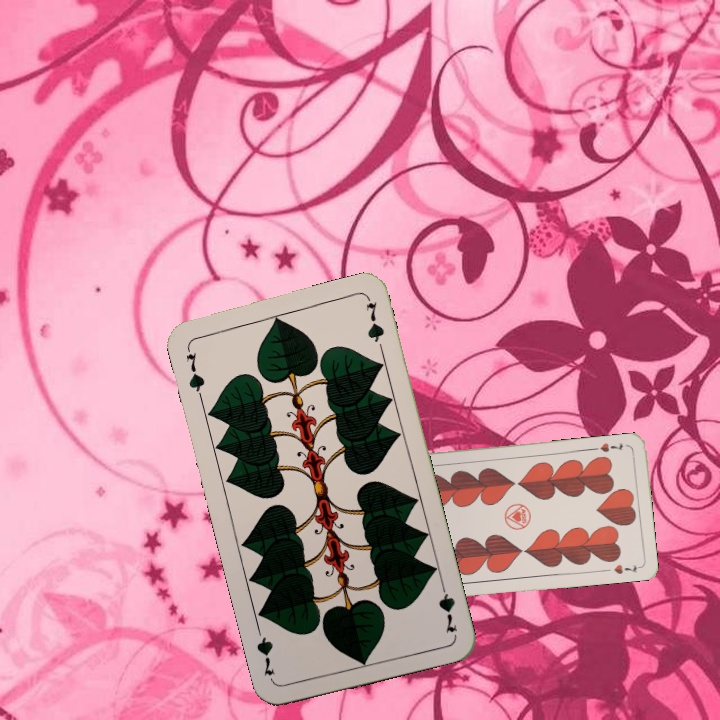G7: (434, 577, 459, 636), (182, 342, 207, 401)
H7: (596, 439, 625, 455)
